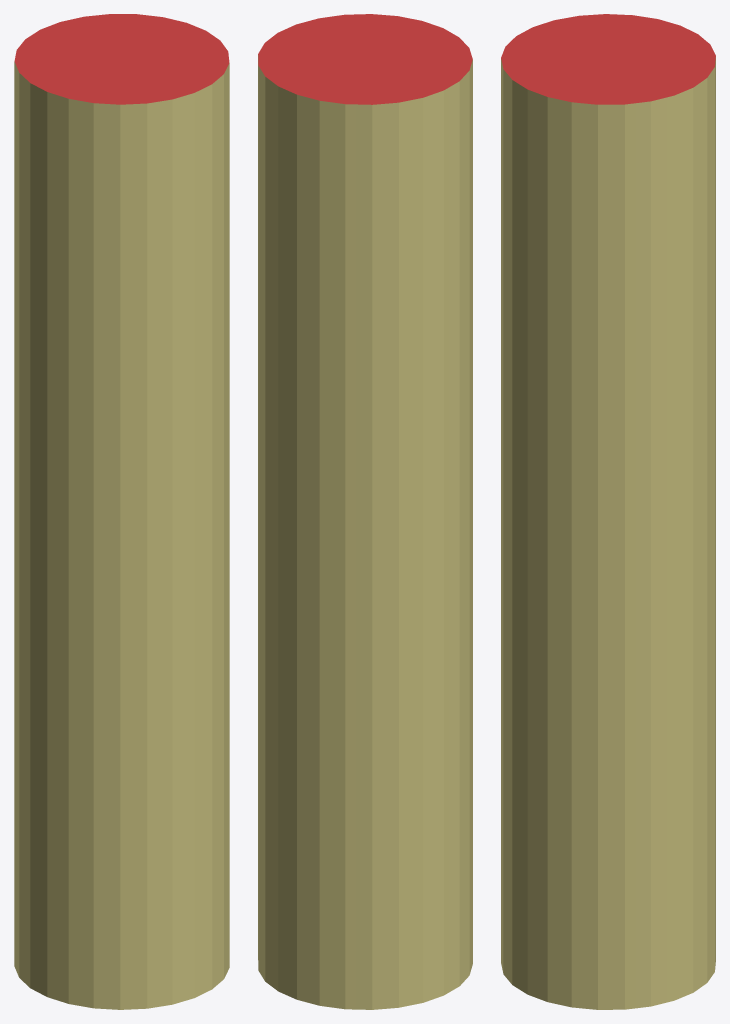
3 renders of one model, left to right at view 1: azimuth 30°, elevation 25°; view 2: azimuth 150°, elevation 25°; view 3: azimuth 270°, elevation 25°, orthographic.
Bounding box in the file's own units: 2.74 × 2.74 × 12.75.
